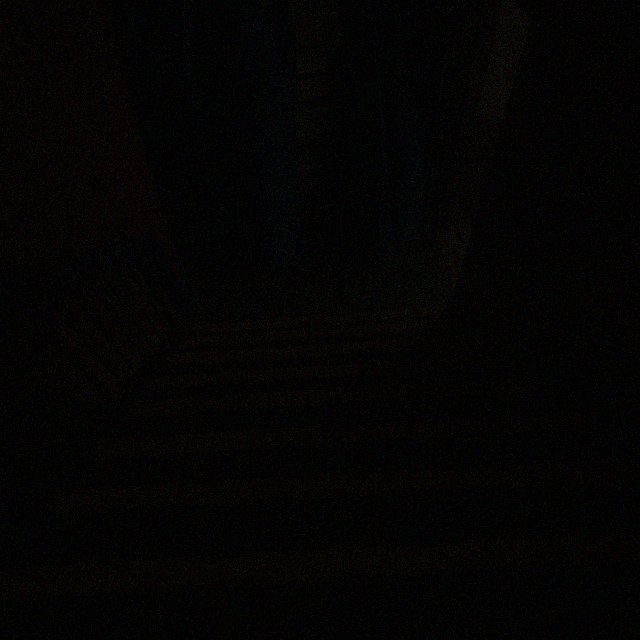stair: (0, 309, 639, 639)
